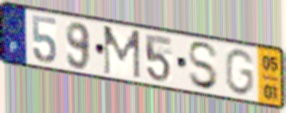5: (143, 32, 174, 84), (31, 12, 58, 65)
9: (64, 21, 92, 71)
G: (223, 47, 256, 98)
M: (101, 24, 142, 81)
S: (186, 40, 221, 92)
